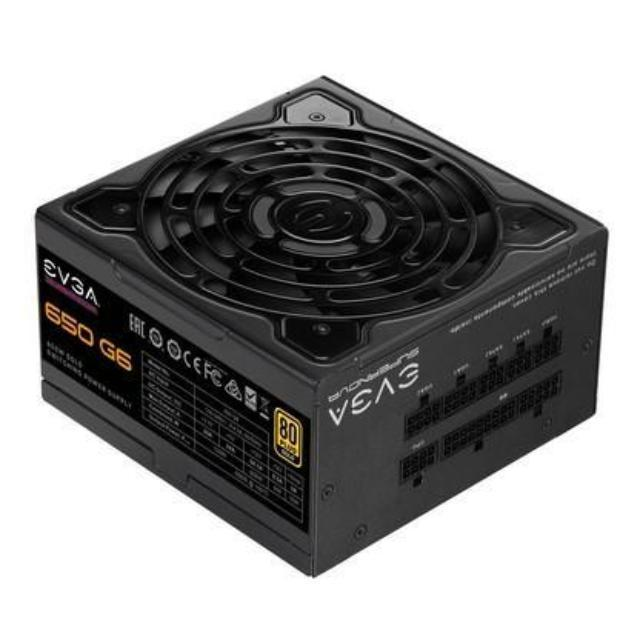PSU: (22, 61, 628, 579)
